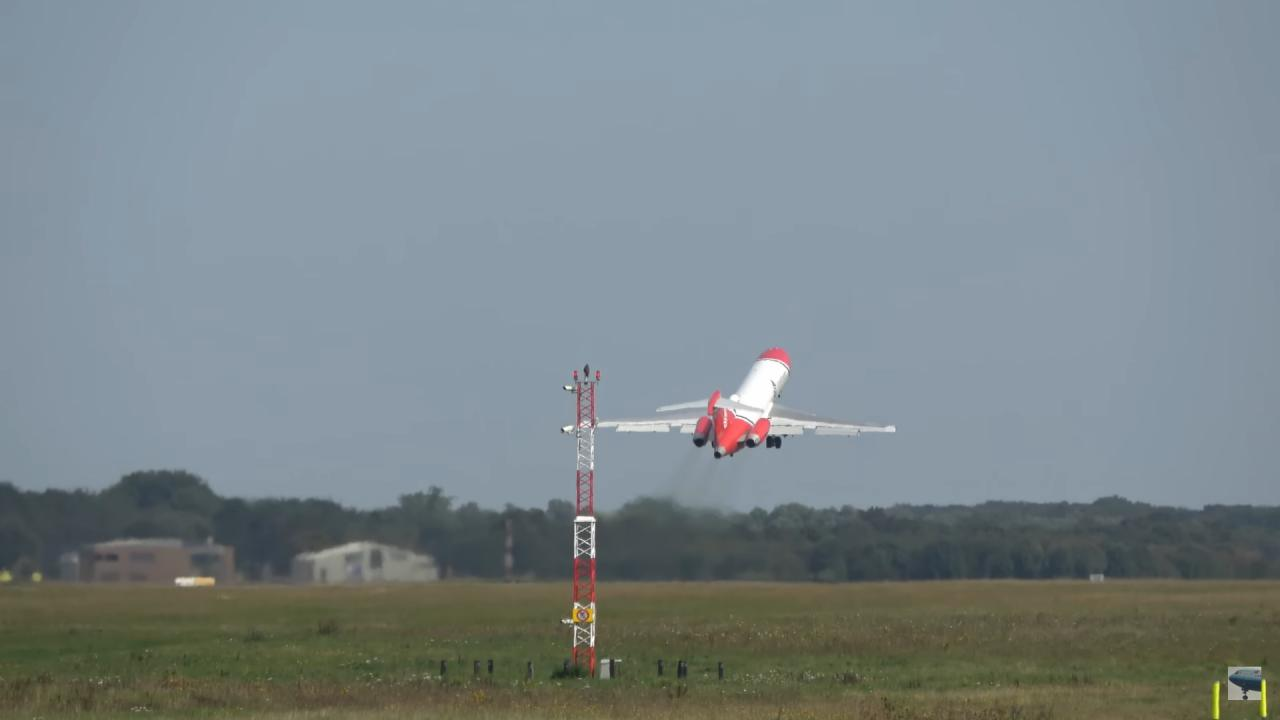Airplane: (547, 338, 910, 470)
